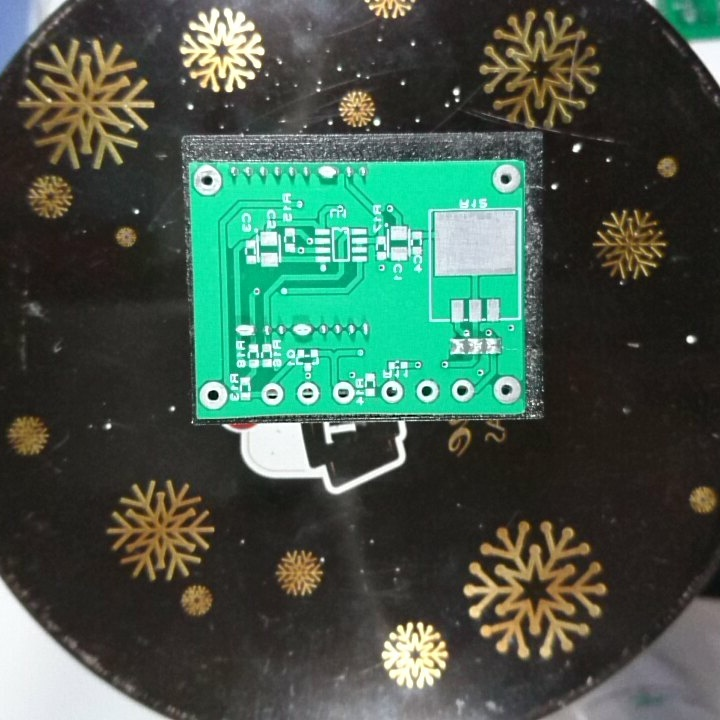F: (191, 163, 224, 198), (490, 162, 524, 195), (197, 380, 231, 412), (491, 373, 523, 406), (448, 376, 477, 405), (259, 380, 287, 408), (413, 377, 442, 404), (329, 379, 357, 406), (296, 379, 323, 406), (379, 378, 405, 404)
P: (289, 320, 317, 341), (314, 162, 341, 183), (231, 320, 259, 340)
